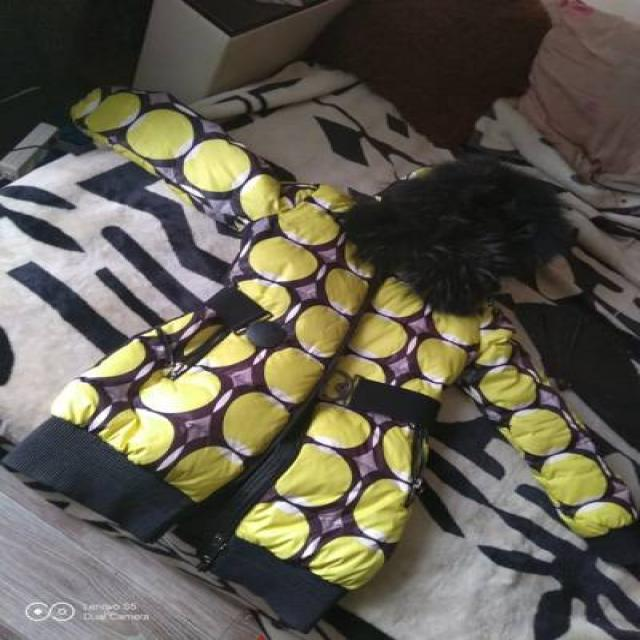Clothes -Biodegradable-: (4, 85, 640, 630)
